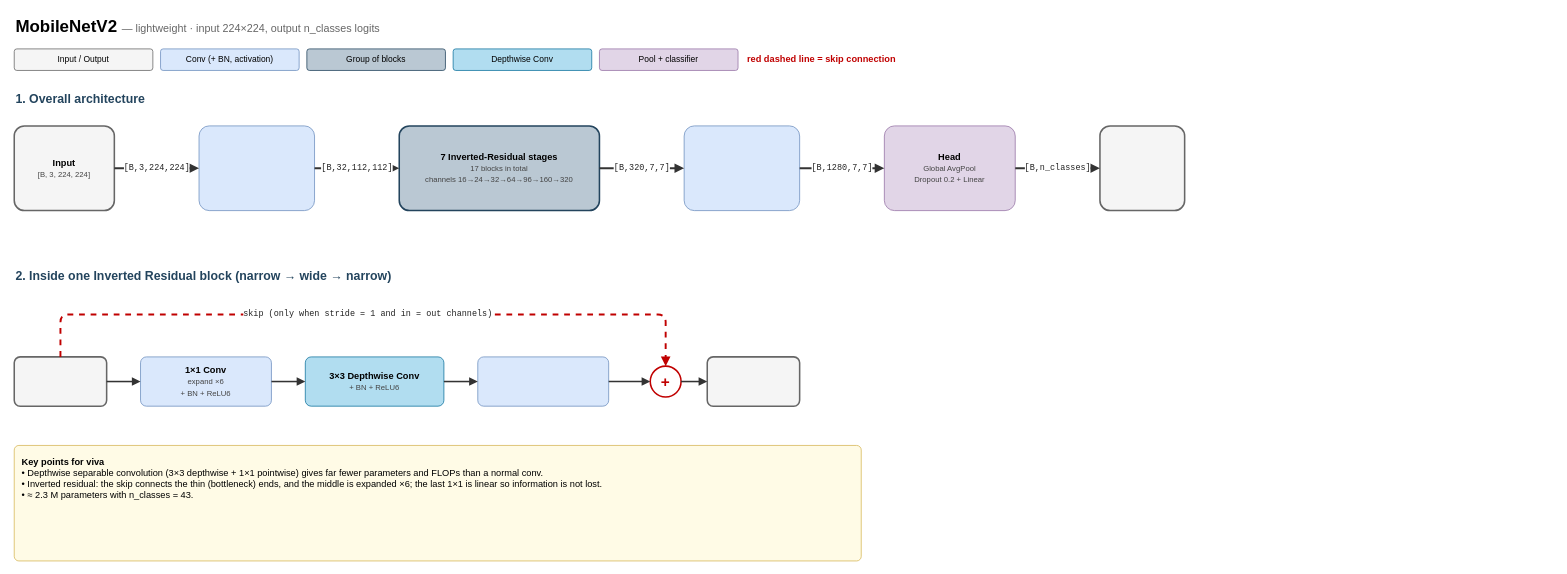
Some shapes in this 1567 by 574 pixel diagram are drawn without their labels. The centre of each missing label's shape, as x and y in pixels:
1×1 Conv 320 → 1280 + BN + ReLU6: [741,168]
1×1 Conv project (linear) + BN, no ReLU6: [543,381]
Logits [B, n_classes]: [1142,168]
out few channels: [753,381]
Stem 3×3 Conv s2 + BN + ReLU6: [256,168]
x few channels: [60,381]
